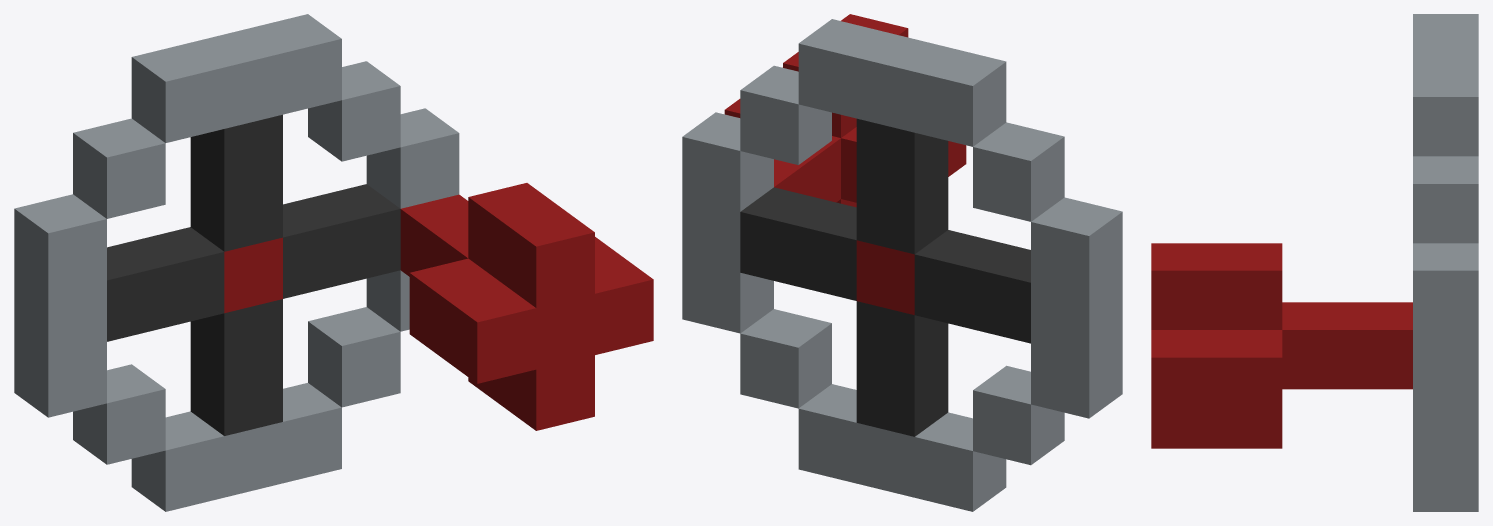
File: NOT crank.obj
3 views of the same model, side by side, from view 1: azimuth 30°, elevation 25°; view 2: azimuth 150°, elevation 25°; view 3: azimuth 270°, elevation 25° (orthographic). The views are drawn at different scales.
Bounding box in the file's own units: 8 × 7 × 5.
1 material, 1 textured.
